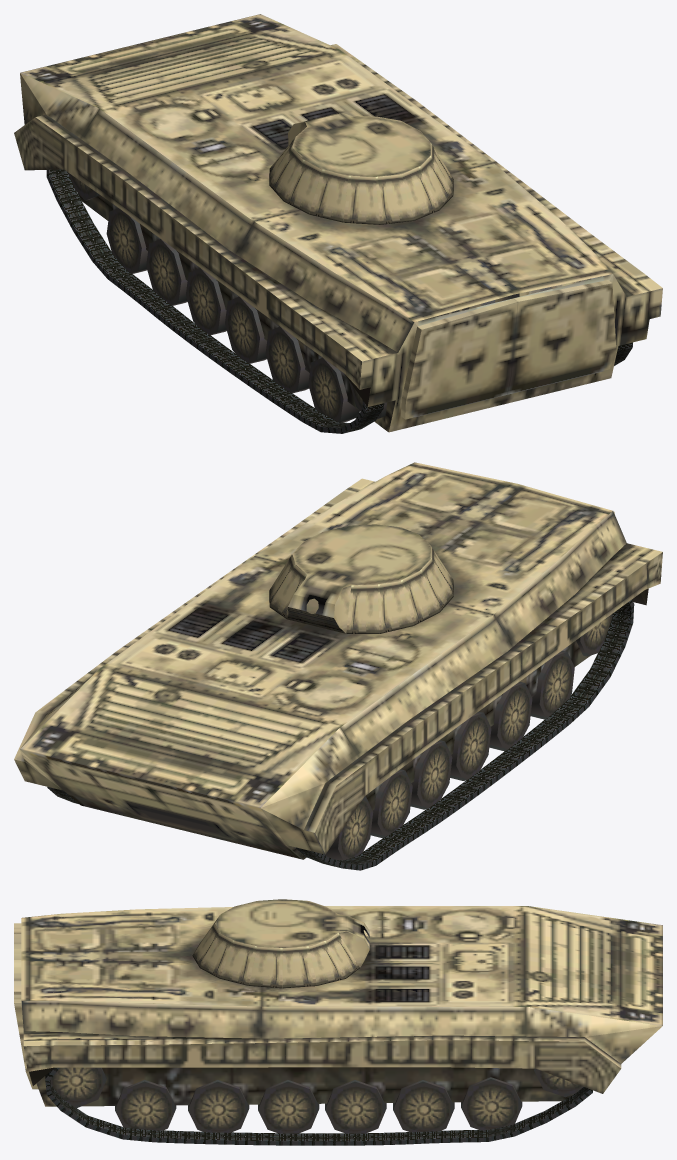
The model's file is BMP1.glb.
The picture shows the model from 3 angles, top to bottom: view 1: azimuth 30°, elevation 25°; view 2: azimuth 150°, elevation 25°; view 3: azimuth 270°, elevation 25°; orthographic projection. The views are drawn at different scales.
Visible parts, largest first — view 1: BMP1, BMP1_TURRET, BMP1WHEELRIGHT (×6), LEFTDOOR, RIGHTDOOR, BMP1_TRACK_RIGHT_01; view 2: BMP1, BMP1_TURRET, BMP1WHEELRIGHT (×7), BMP1_TRACK_RIGHT_01; view 3: BMP1, BMP1WHEELLEFT (×8), BMP1_TURRET, BMP1_TRACK_LEFT_01, RIGHTDOOR.
Part boxes in pixels (x1,y1,x2,y2): BMP1: (14,14,662,432); BMP1_TURRET: (269,113,453,224); BMP1WHEELRIGHT (×6): (106,208,359,422); LEFTDOOR: (400,298,517,419); RIGHTDOOR: (507,280,616,394); BMP1_TRACK_RIGHT_01: (46,169,384,433); BMP1: (14,462,662,859); BMP1_TURRET: (269,524,453,633); BMP1WHEELRIGHT (×7): (324,614,612,860); BMP1_TRACK_RIGHT_01: (296,599,634,870); BMP1: (21,906,662,1106); BMP1WHEELLEFT (×8): (50,1067,583,1133); BMP1_TURRET: (192,899,369,988); BMP1_TRACK_LEFT_01: (45,1067,592,1145); RIGHTDOOR: (14,959,38,1089).
Bounding box in the file's own units: 3.14 × 1.93 × 6.84.
2 materials, 2 textured.
